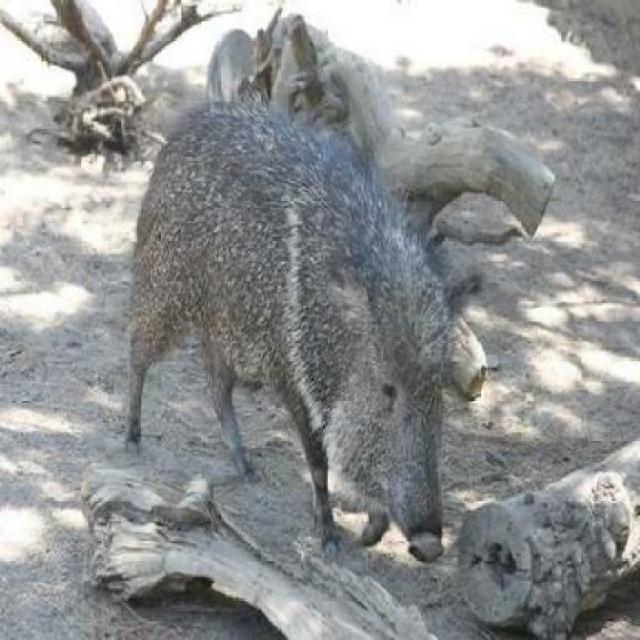pig: (104, 30, 554, 572)
